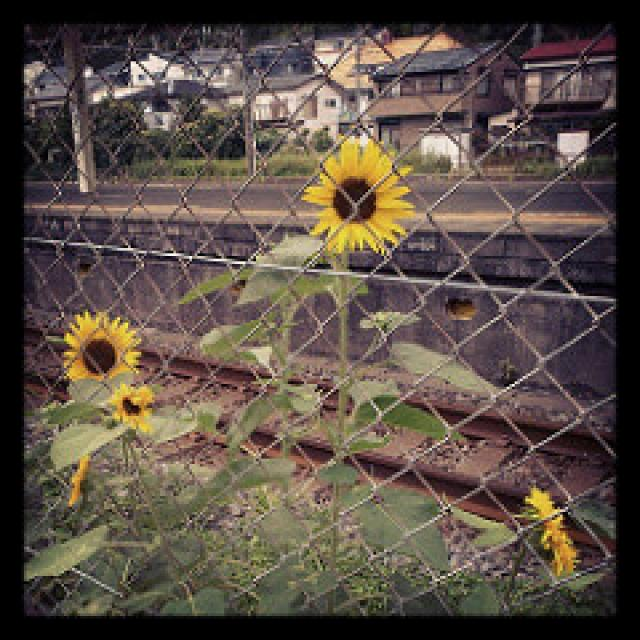sunflower: (302, 140, 415, 260), (59, 314, 143, 385), (114, 386, 156, 431)
